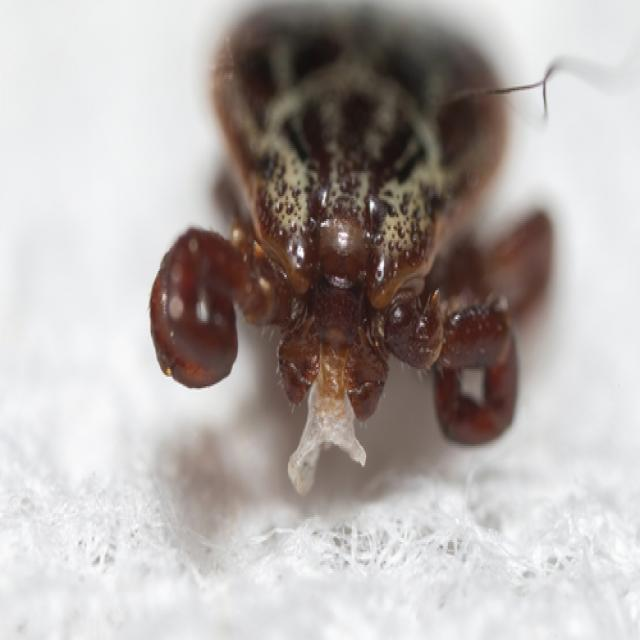Dermacentor Reticulatus-M: (148, 10, 521, 496)
